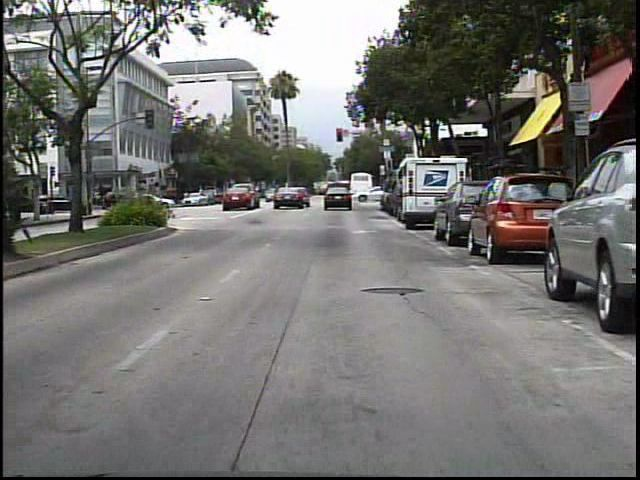person: (269, 182, 284, 206)
